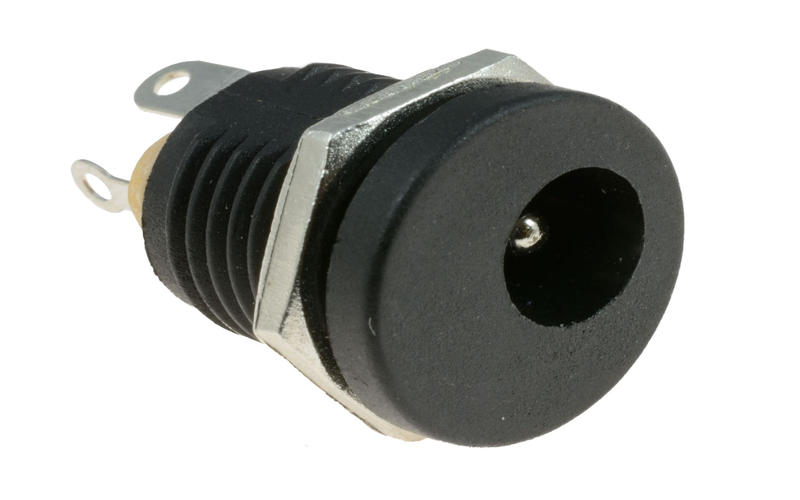Switches: (58, 30, 706, 467)
